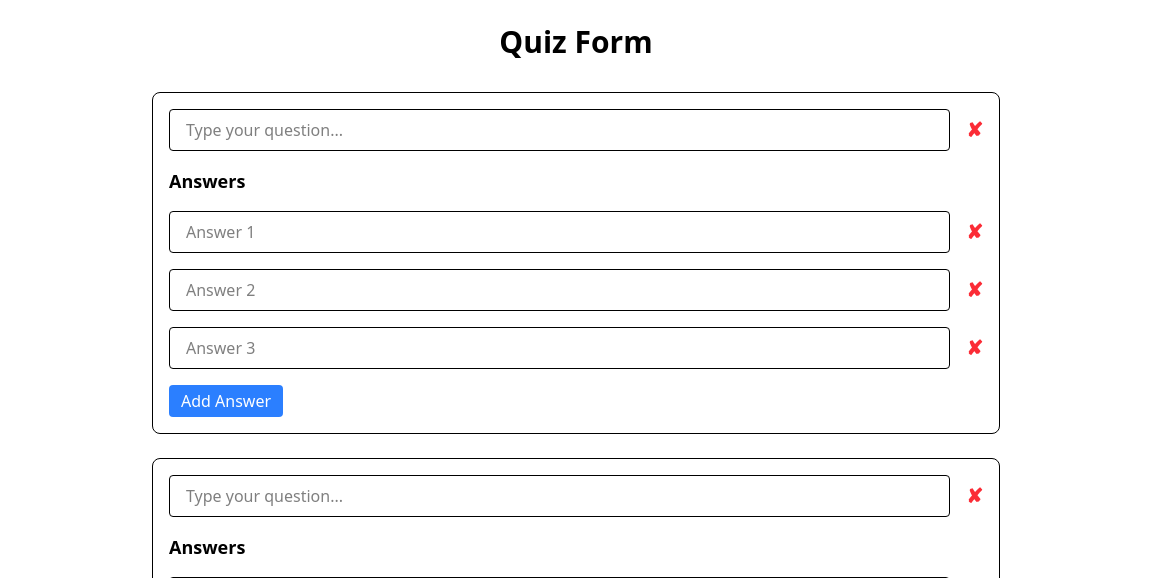
Test: Quiz Form E2E › Error Messages › Question Field Error Messages › should show error messages for question field when touched
Focus the 1st field with placeholder "Type your question..." at (560, 130), box x1=169 y1=109 x2=950 y2=151
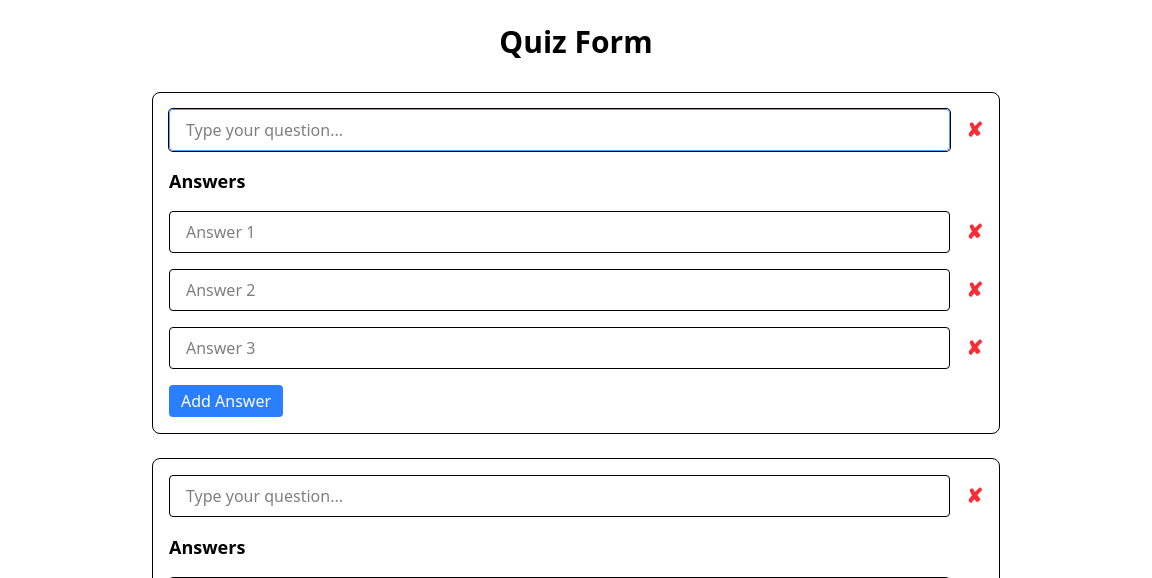
Leave the 1st field with placeholder "Type your question...", box x1=169 y1=109 x2=950 y2=151
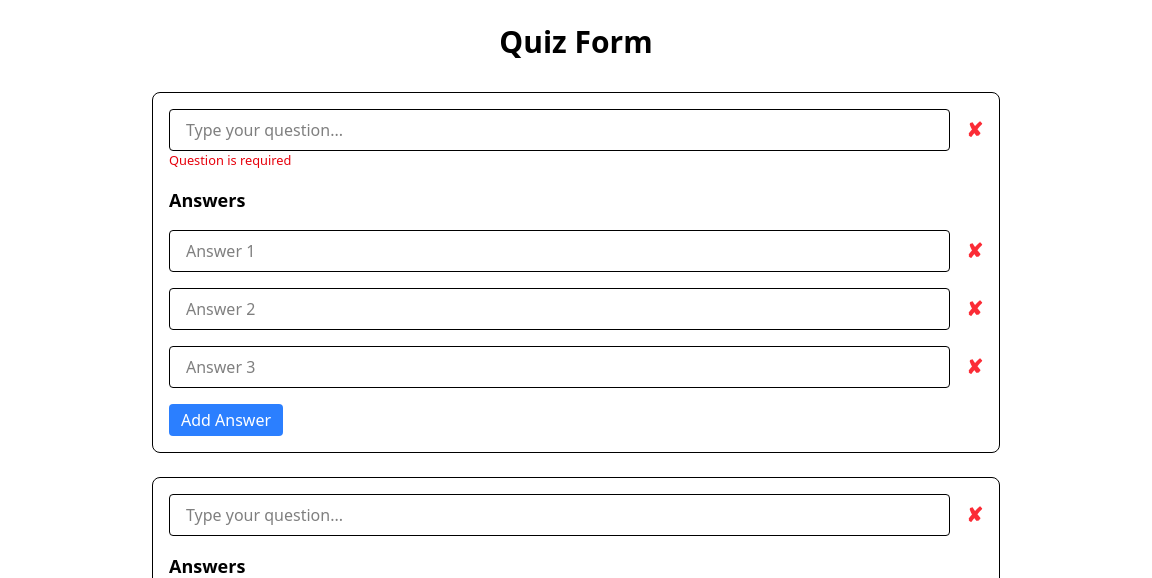
Check: the text "Question is required" is shown, box x1=169 y1=151 x2=291 y2=169
